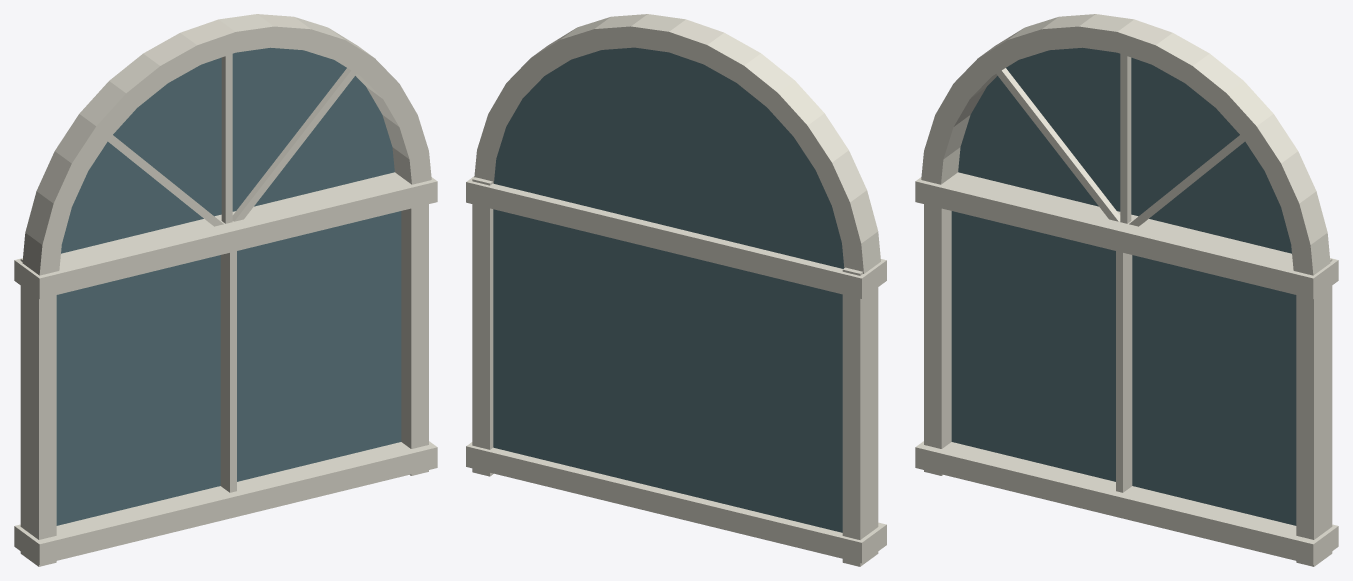
The picture shows the model from 3 angles, left to right: view 1: azimuth 30°, elevation 25°; view 2: azimuth 150°, elevation 25°; view 3: azimuth 330°, elevation 25°; orthographic projection.
Visible parts, largest first — view 1: QH-A0042_V02_geometry; view 2: QH-A0042_V02_geometry; view 3: QH-A0042_V02_geometry.
Boxes of the visible parts, box(x1,y1,x2,y2) form: QH-A0042_V02_geometry: box(14, 14, 437, 566); QH-A0042_V02_geometry: box(466, 14, 886, 566); QH-A0042_V02_geometry: box(915, 14, 1338, 566).
Bounding box in the file's own units: 2.01 × 2.36 × 0.22.
